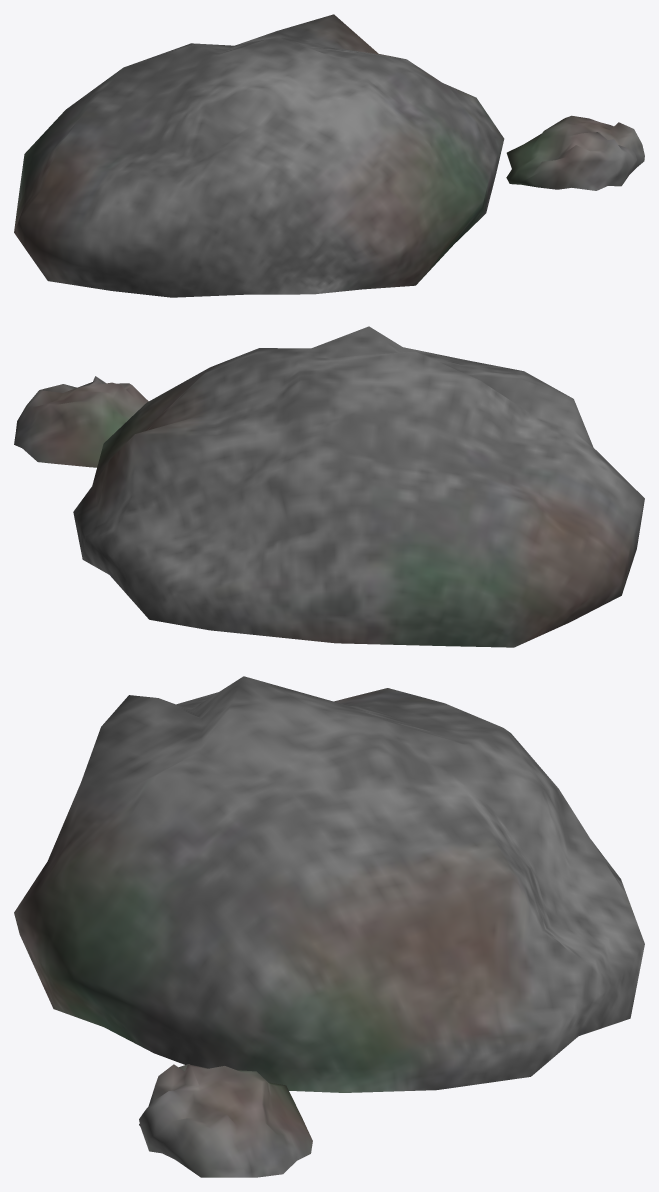
The model's file is pedra.fbx.
3 views of the same model, one above another, from view 1: azimuth 30°, elevation 25°; view 2: azimuth 150°, elevation 25°; view 3: azimuth 270°, elevation 25° (orthographic). The views are drawn at different scales.
Visible parts, largest first — view 1: Pedra; view 2: Pedra; view 3: Pedra.
Part boxes in pixels (left/top/right/bottom): Pedra: left=14, top=14, right=644, bottom=297; Pedra: left=14, top=326, right=644, bottom=647; Pedra: left=14, top=676, right=644, bottom=1177.
Bounding box in the file's own units: 55.18 × 15.69 × 36.63.
